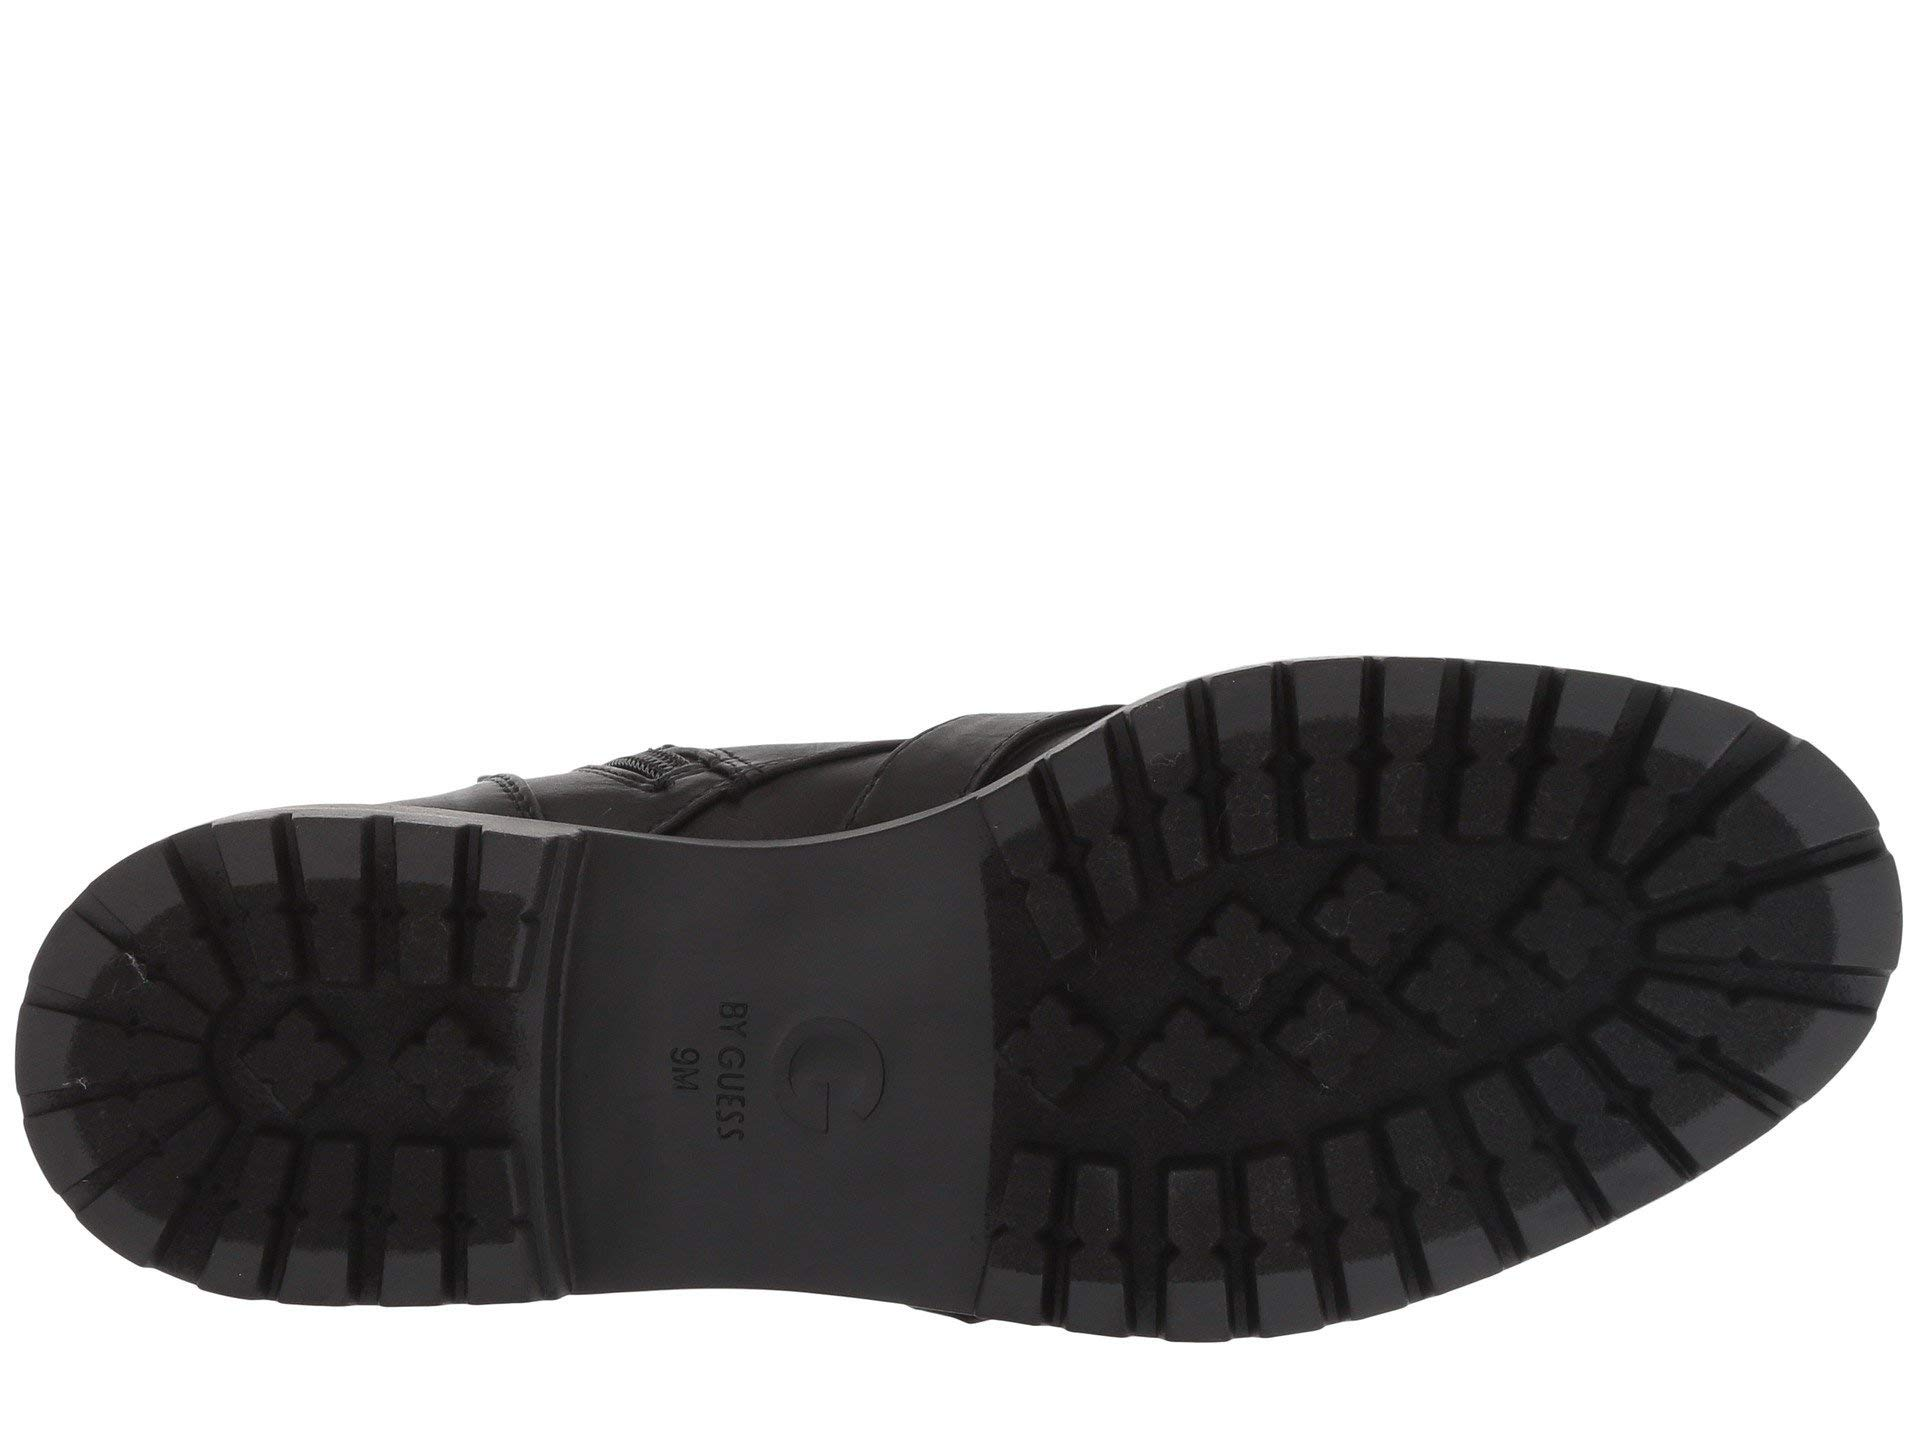bowtie: (1380, 647, 1630, 862), (1609, 936, 1875, 1101), (1225, 1116, 1411, 1342), (971, 1122, 1144, 1339)
star: (1160, 870, 1510, 1082), (230, 980, 523, 1139)
